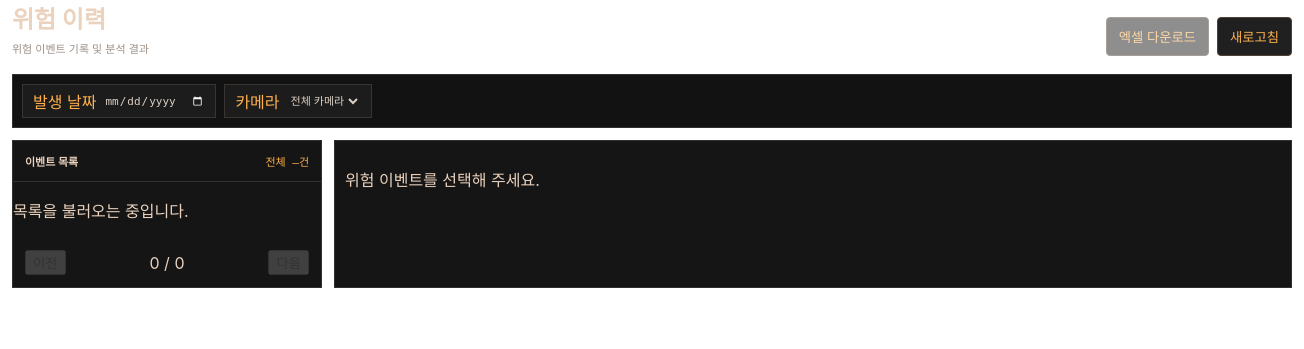
Test: exports selected filters and allows retry after a failure
Type "2026-09-13" into the date field labelled "발생 날짜" at [154, 101], box [103,94,205,108]
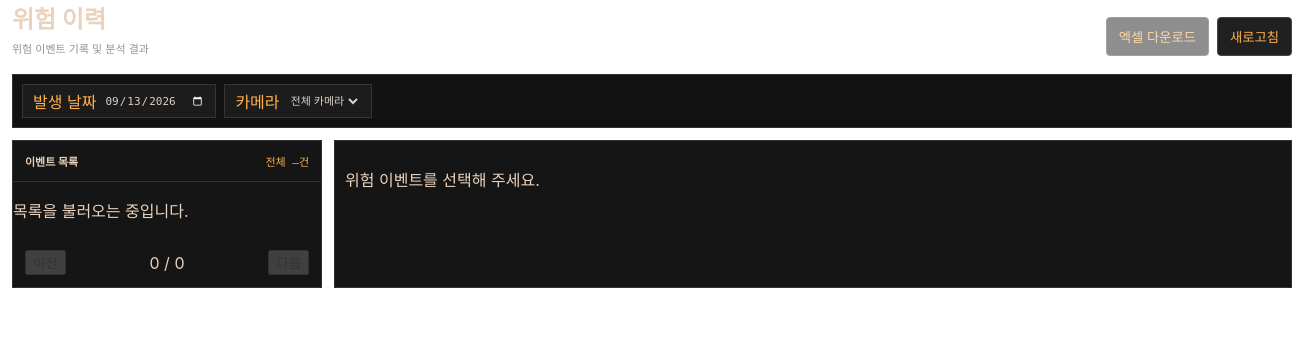
Select "camera-1" in the dropdown labelled "카메라" at [324, 101], box [287,94,361,108]
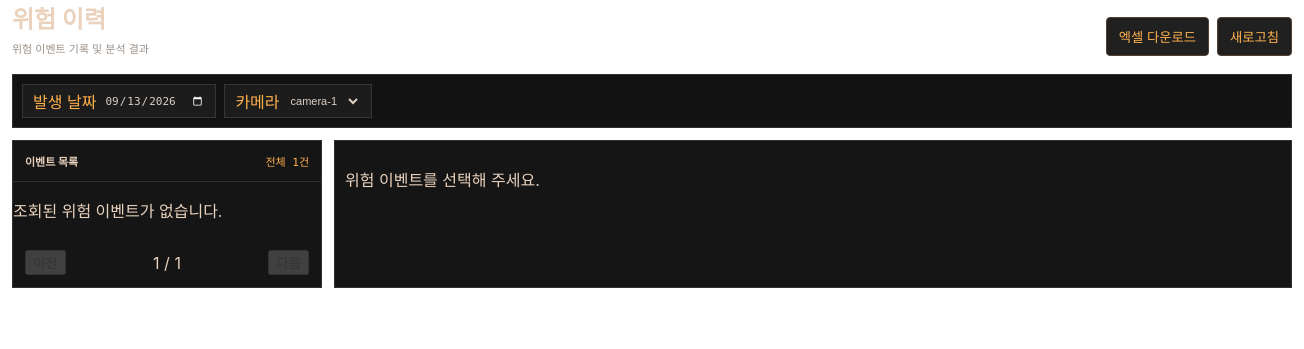
Check: the button "엑셀 다운로드" is enabled
Click the button "엑셀 다운로드" at [1157, 36], box [1106,17,1209,56]
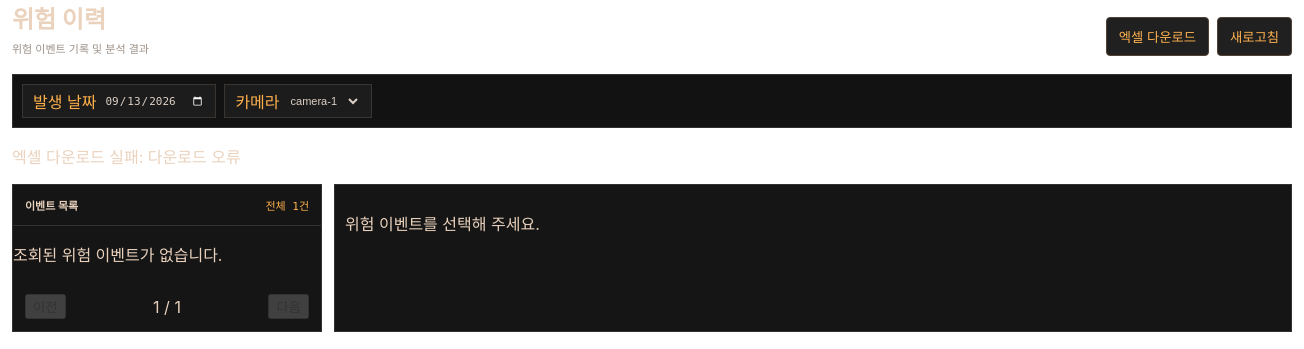
Check: the message shows "엑셀 다운로드 실패", box [12,147,241,167]
Click the button "엑셀 다운로드" at [1157, 36], box [1106,17,1209,56]
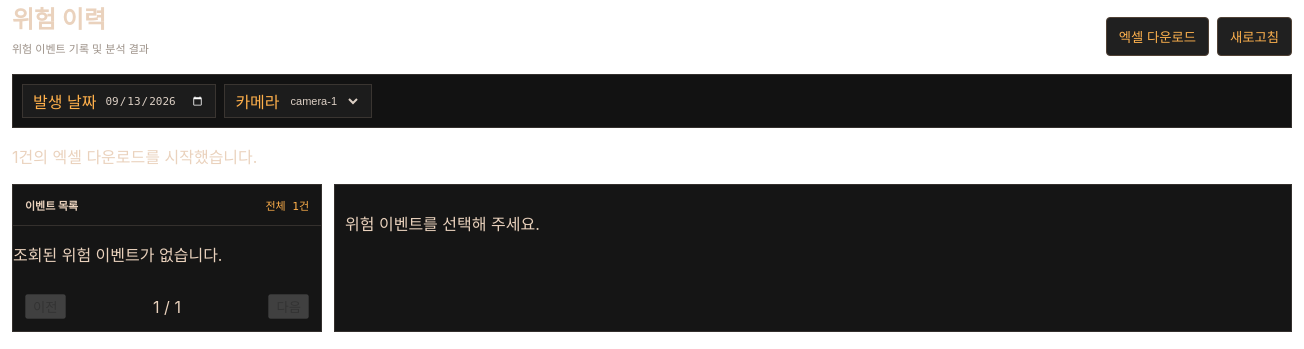
Check: the text "1건의 엑셀 다운로드를 시작했습니다." is shown, box [12,147,257,167]
